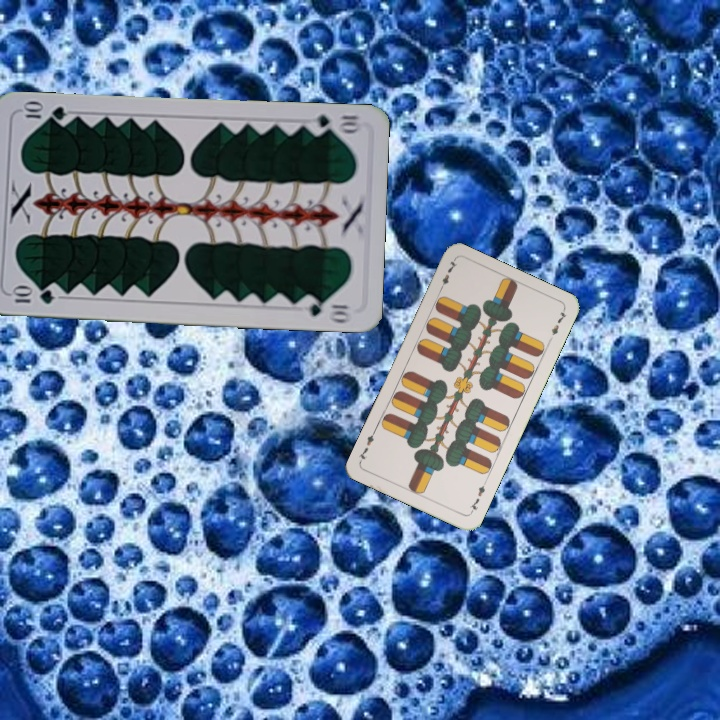E7: (435, 256, 460, 294), (465, 478, 489, 516)
G10: (304, 110, 363, 137), (7, 284, 57, 306)
